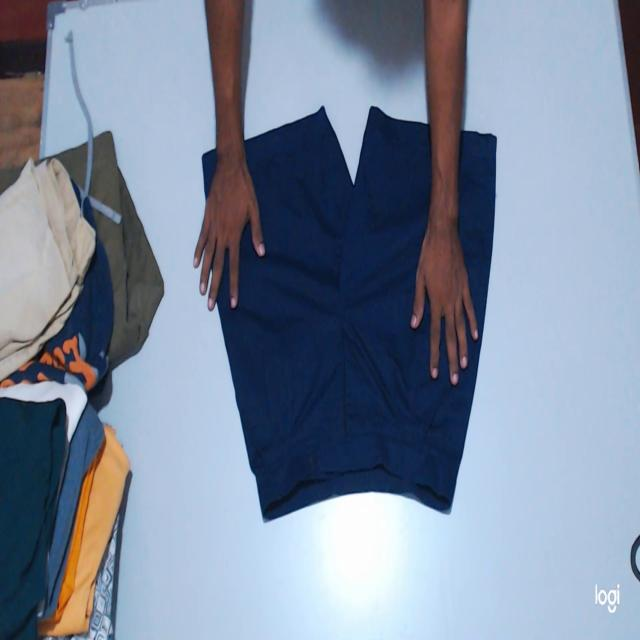new-garment: (219, 107, 482, 519), (219, 107, 481, 519), (459, 133, 496, 332), (202, 149, 218, 197)
